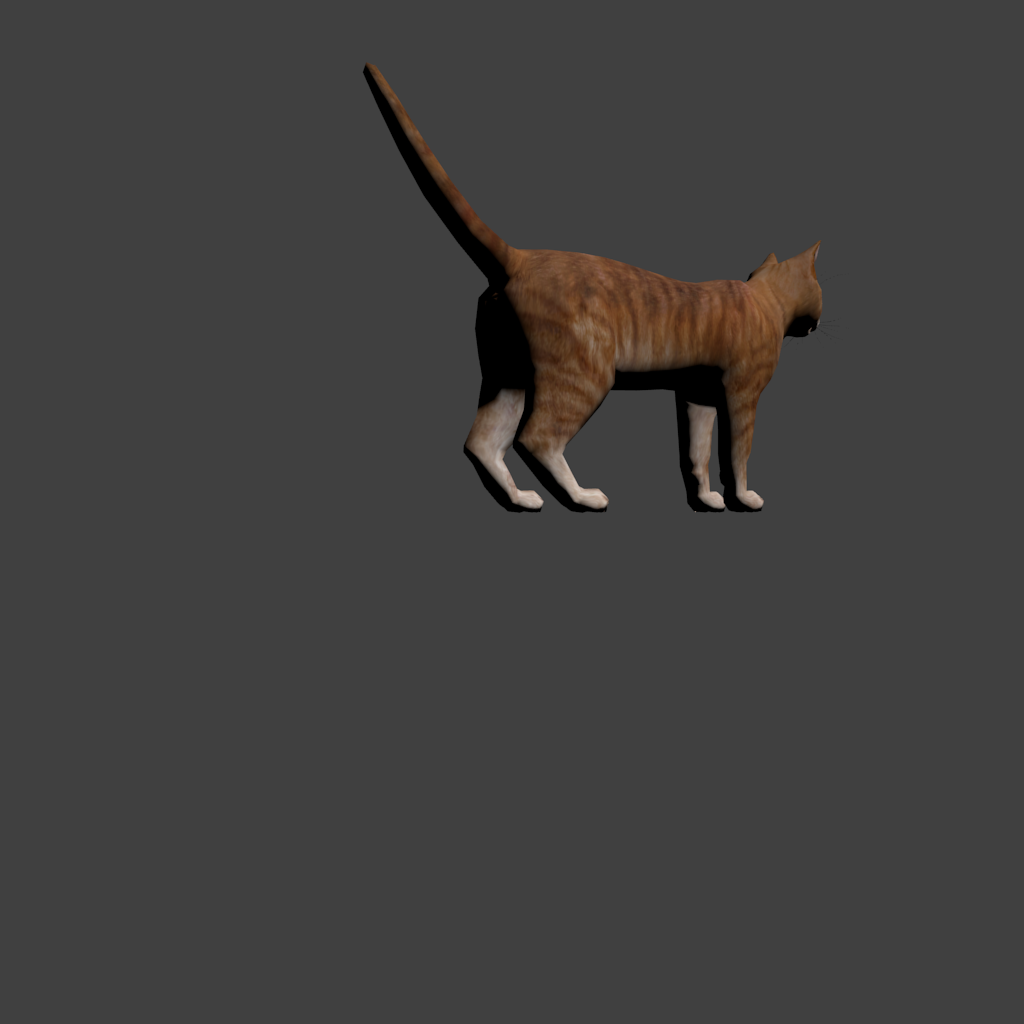Cat: (0, 0, 1024, 1024), (363, 62, 490, 451)
